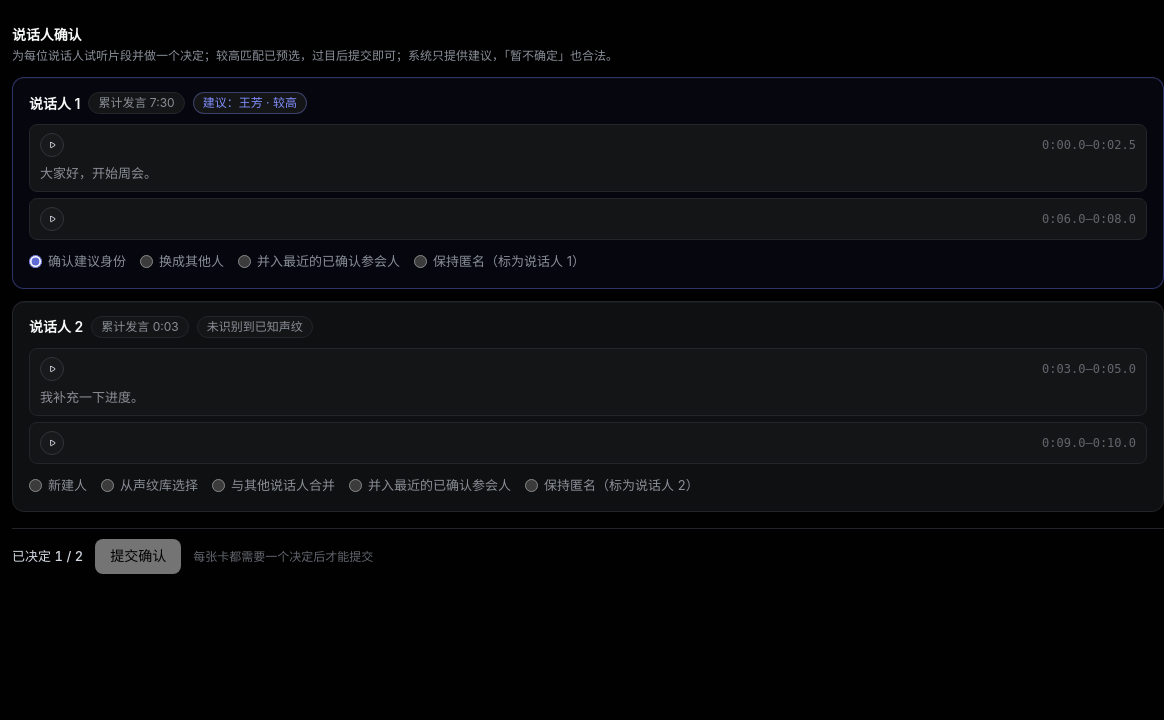
说话人确认页固定提交栏 › 提交栏常驻并显示「已决定 x / y」，随选择更新
The width and height of the screenshot is (1164, 720).
Check: the text "已决定 1 / 2" is shown, box left=12, top=547, right=83, bottom=566
Click the radio button labelled "保持匿名（标为说话人 2）".
click(532, 486)  # box left=525, top=479, right=538, bottom=492
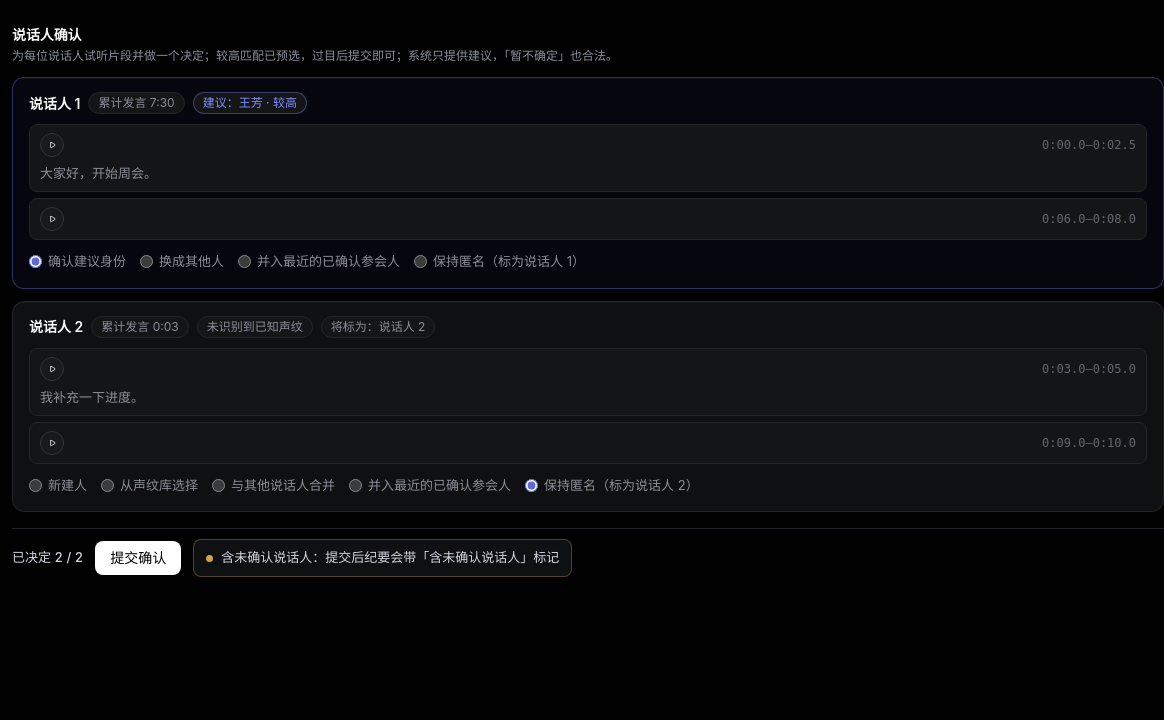
Check: the text "已决定 2 / 2" is shown, box left=12, top=548, right=83, bottom=568
Check: the button "提交确认" is enabled, box left=95, top=541, right=181, bottom=575
